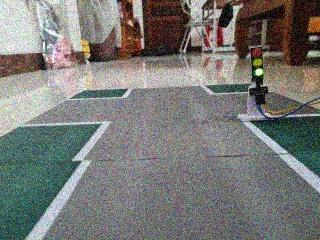green: (238, 40, 277, 87)
